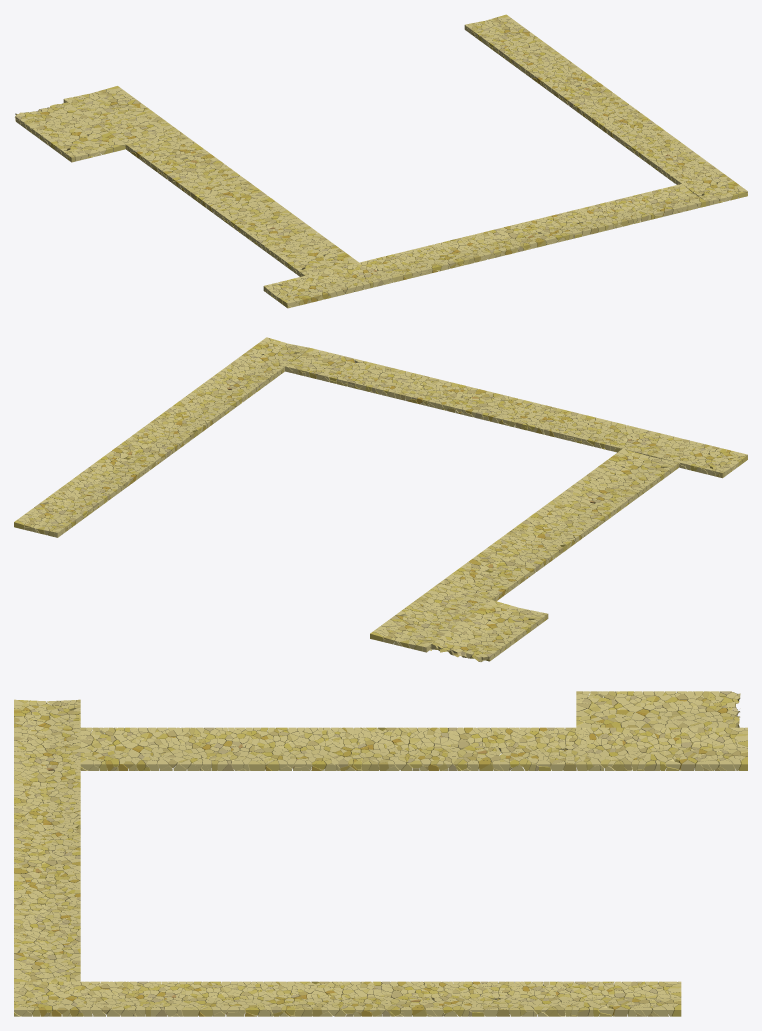
File: walk.glb
The picture shows the model from 3 angles, top to bottom: view 1: azimuth 30°, elevation 25°; view 2: azimuth 150°, elevation 25°; view 3: azimuth 270°, elevation 25°; orthographic projection. The views are drawn at different scales.
Visible parts, largest first — view 1: Cube.021, Cube.015, Cube.003, Cube.023; view 2: Cube.021, Cube.015, Cube.003, Cube.023; view 3: Cube.021, Cube.003, Cube.015, Cube.023.
Boxes of the visible parts, x1,y1,x2,y2 form: Cube.021: [63, 86, 358, 276]; Cube.015: [263, 184, 705, 308]; Cube.003: [464, 14, 747, 206]; Cube.023: [14, 102, 125, 162]; Cube.021: [370, 449, 679, 652]; Cube.015: [285, 348, 747, 478]; Cube.003: [14, 337, 309, 537]; Cube.023: [430, 600, 548, 661]; Cube.021: [80, 727, 747, 770]; Cube.003: [14, 981, 681, 1016]; Cube.015: [14, 699, 80, 986]; Cube.023: [576, 691, 740, 730].
Bounding box in the file's own units: 90.4 × 0.9 × 88.
